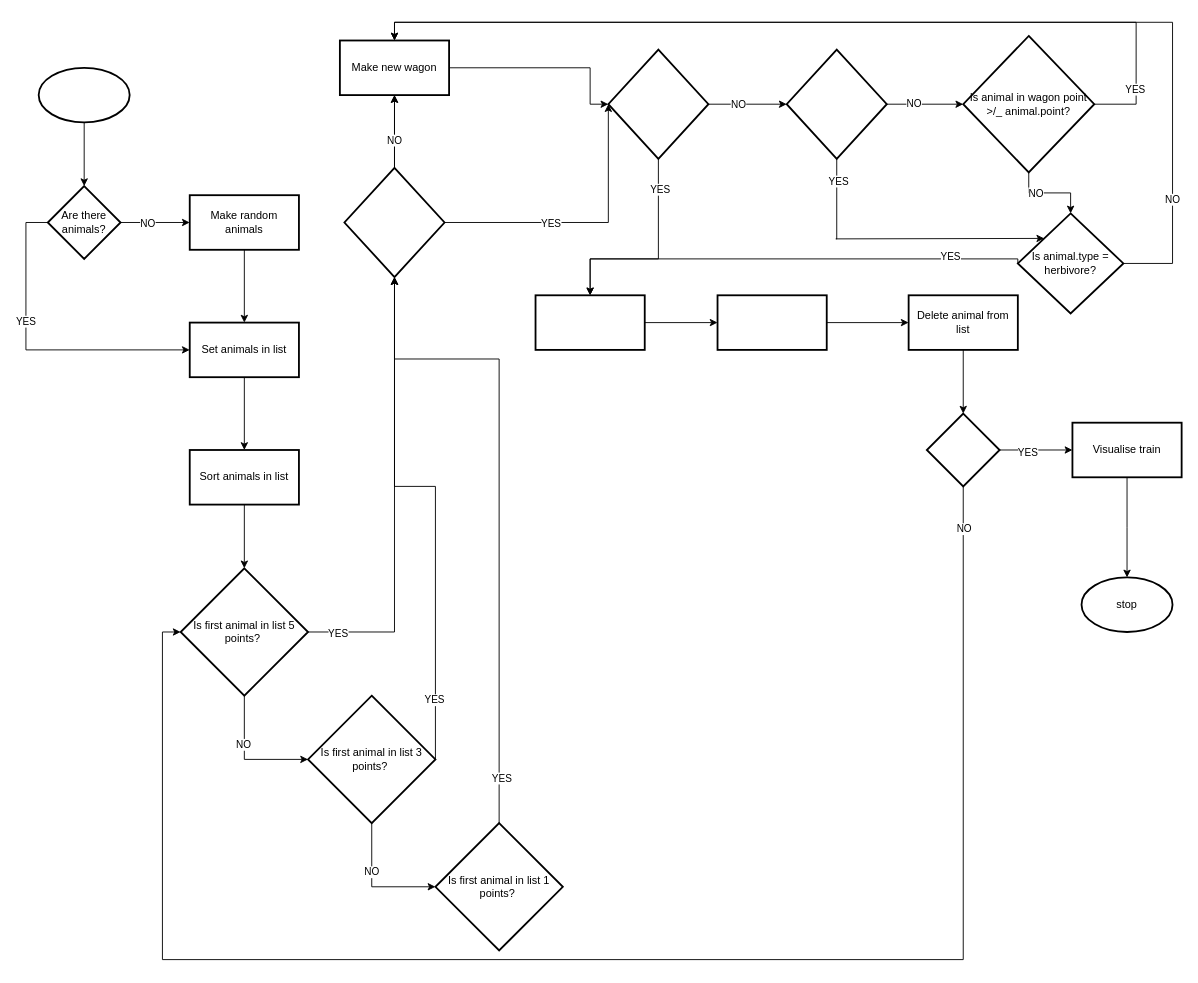
This 1198x983 diagram has some shape labels left out. Each missing label, with the centre of its shape:
Is animal in wagon a herbivore?: [836,103]
Is capacity - animal.point > 0?: [394,222]
Is list empty?: [962,449]
Is wagon empty?: [658,103]
start: [83,94]
Wagon => add animal: [589,322]
Wagon.capacity = capacity - animal.point: [771,322]
